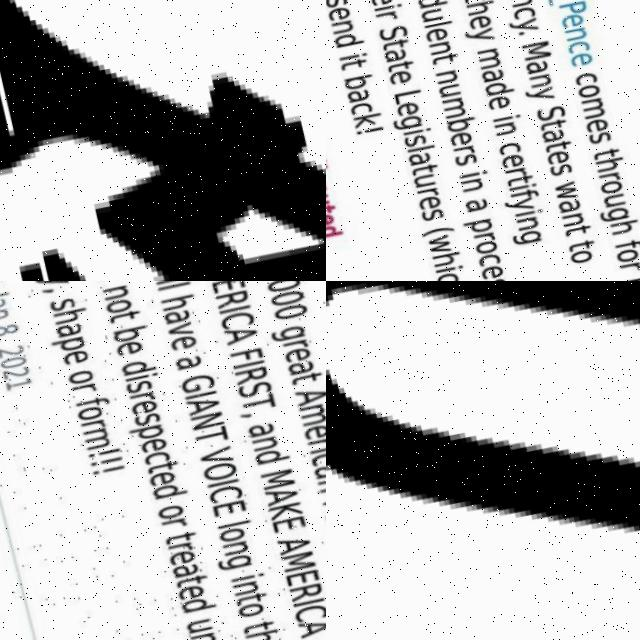0: (269, 285, 306, 306), (272, 299, 310, 319), (264, 281, 302, 292), (0, 351, 26, 367)
1: (3, 374, 33, 388)
2: (0, 362, 31, 378), (0, 340, 26, 357)
8: (0, 318, 19, 335)
A: (0, 0, 326, 281)
U: (326, 281, 640, 640)
